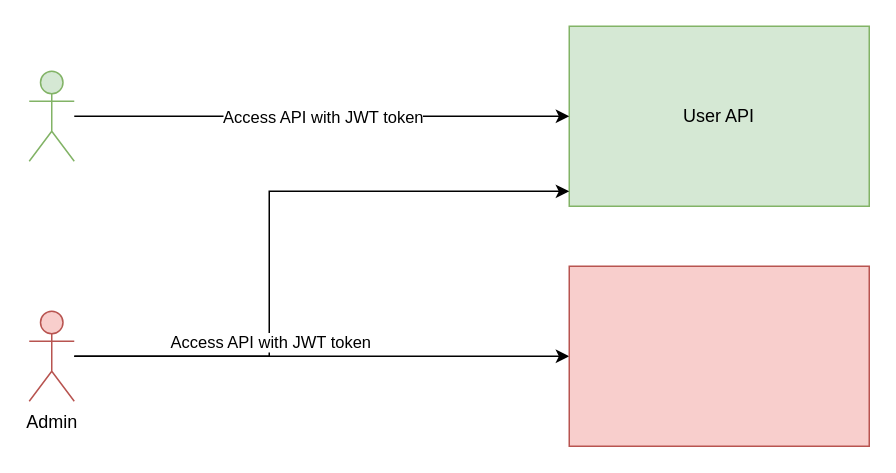
This 896x473 diagram has some shape labels left out. Each missing label, with the centre of its shape:
"Admin API" belongs at [718,355].
"User" belongs at [51,115].
